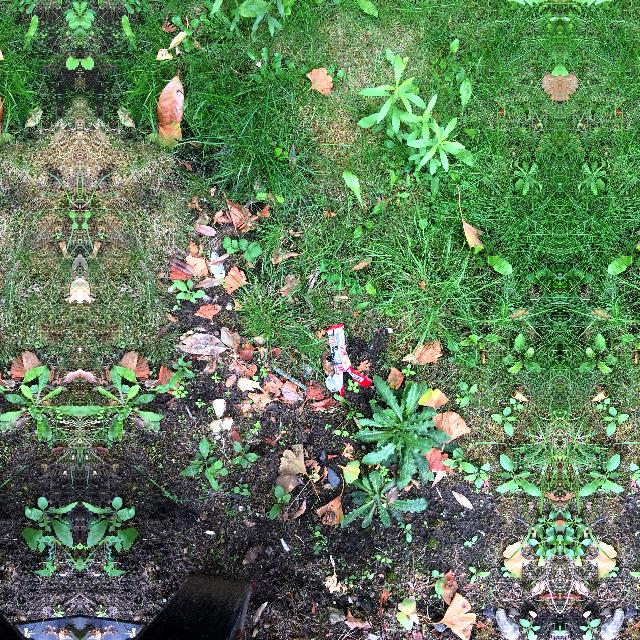Plastic: (324, 320, 374, 400)
